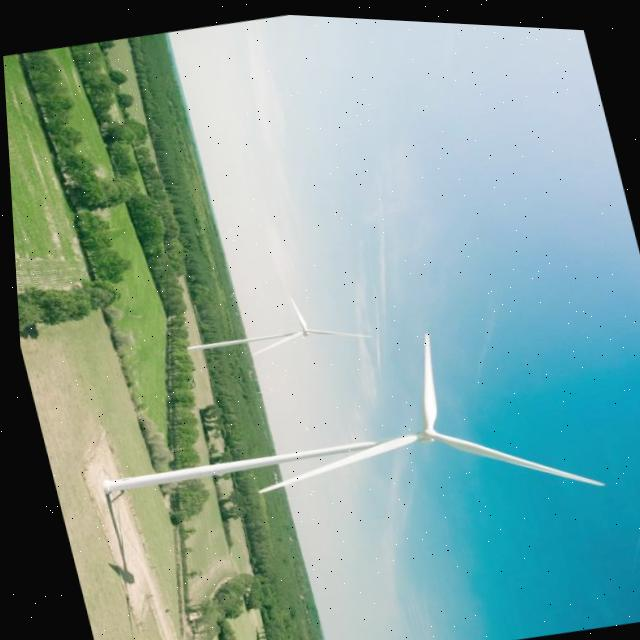solid-blade: (253, 432, 412, 489), (427, 428, 598, 479), (418, 328, 432, 425), (248, 331, 295, 354), (286, 296, 301, 325)
